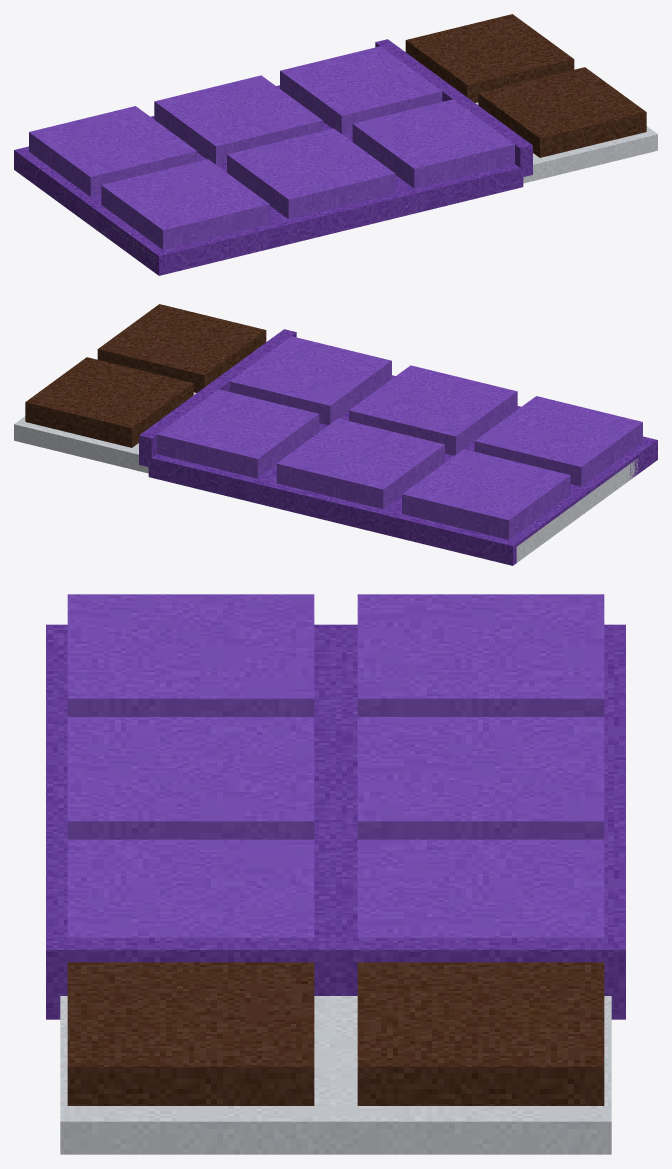
The picture shows the model from 3 angles, top to bottom: view 1: azimuth 30°, elevation 25°; view 2: azimuth 150°, elevation 25°; view 3: azimuth 270°, elevation 25°; orthographic projection. The views are drawn at different scales.
Visible parts, largest first — view 1: chocolate_bar; view 2: chocolate_bar; view 3: chocolate_bar.
Part boxes in pixels (x1=…): chocolate_bar: x1=14, y1=14, x2=657, y2=275; chocolate_bar: x1=14, y1=304, x2=657, y2=565; chocolate_bar: x1=46, y1=594, x2=625, y2=1154.
Size of the model in its own units: 0.16 by 0.012 by 0.08.
4 materials, 4 textured.
